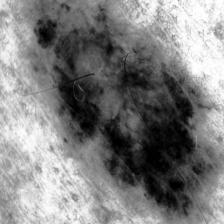Benign Marking or Mole: (36, 0, 215, 216)
